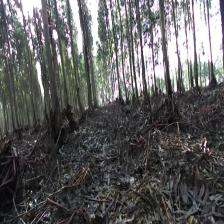trunk: (42, 14, 61, 112), (160, 12, 172, 96), (70, 31, 82, 110), (138, 17, 148, 96)
